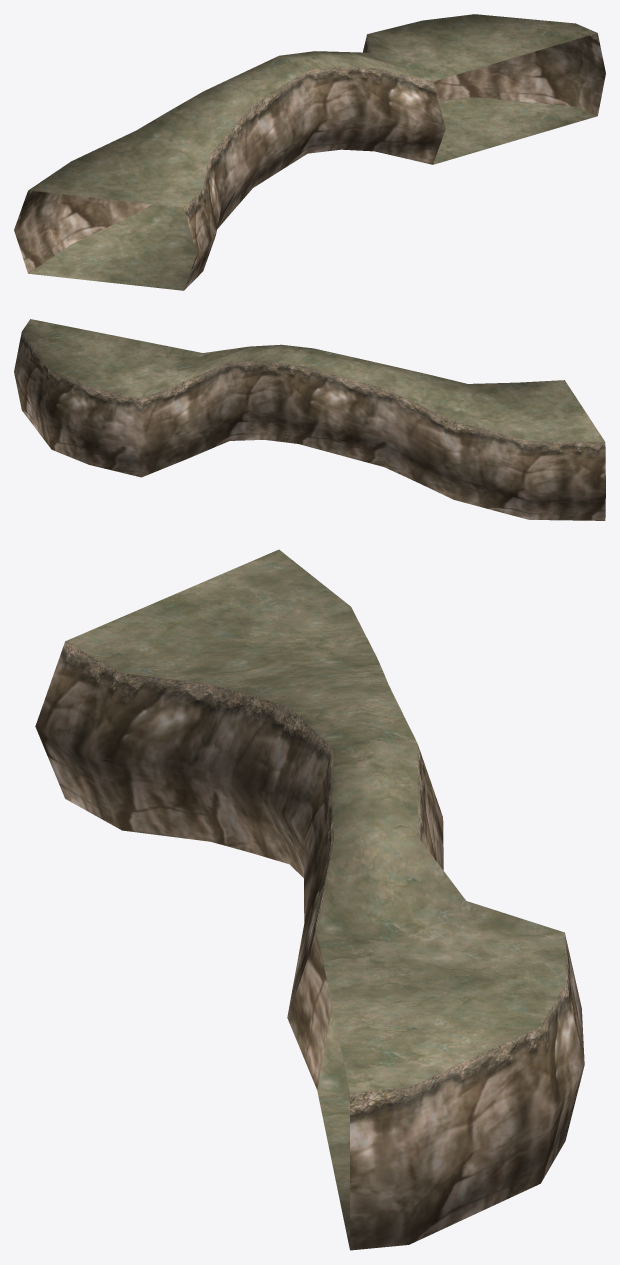
The model's file is OVERHILL_A_01_LINE04.fbx.
3 views of the same model, one above another, from view 1: azimuth 30°, elevation 25°; view 2: azimuth 150°, elevation 25°; view 3: azimuth 270°, elevation 25° (orthographic). The views are drawn at different scales.
Visible parts, largest first — view 1: OVERHILL_A_01_LINE04; view 2: OVERHILL_A_01_LINE04; view 3: OVERHILL_A_01_LINE04.
Boxes of the visible parts, left/top/right/bottom form: OVERHILL_A_01_LINE04: left=14, top=14, right=605, bottom=290; OVERHILL_A_01_LINE04: left=14, top=319, right=605, bottom=520; OVERHILL_A_01_LINE04: left=35, top=549, right=584, bottom=1250.
Bounding box in the file's own units: 89454 × 17508 × 37206.
Materials: 3 (3 with a texture image).
